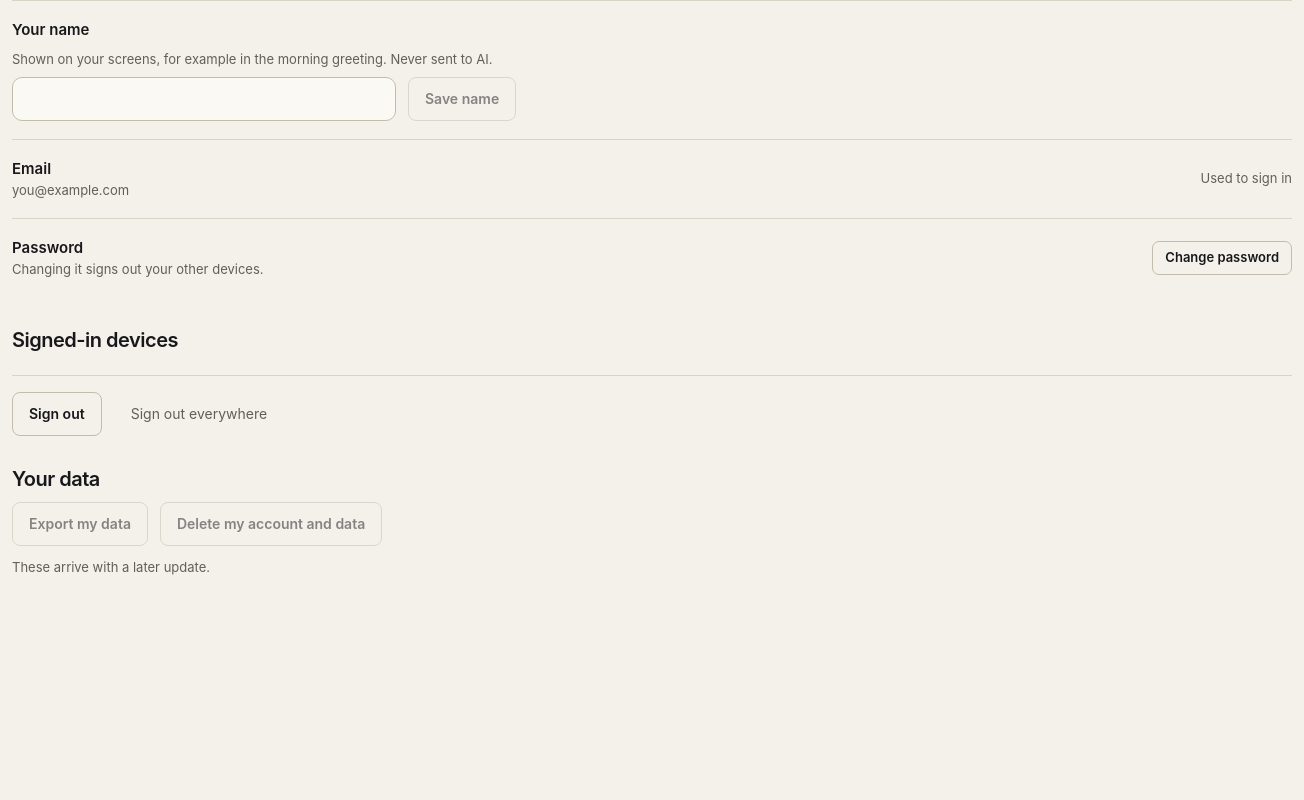
account settings with the API › saves the name with its version, and Undo puts it back
This screenshot has width=1304, height=800.
Type "Asha" into the field labelled "Your name". click: (204, 99)
box: [12,77,396,121]
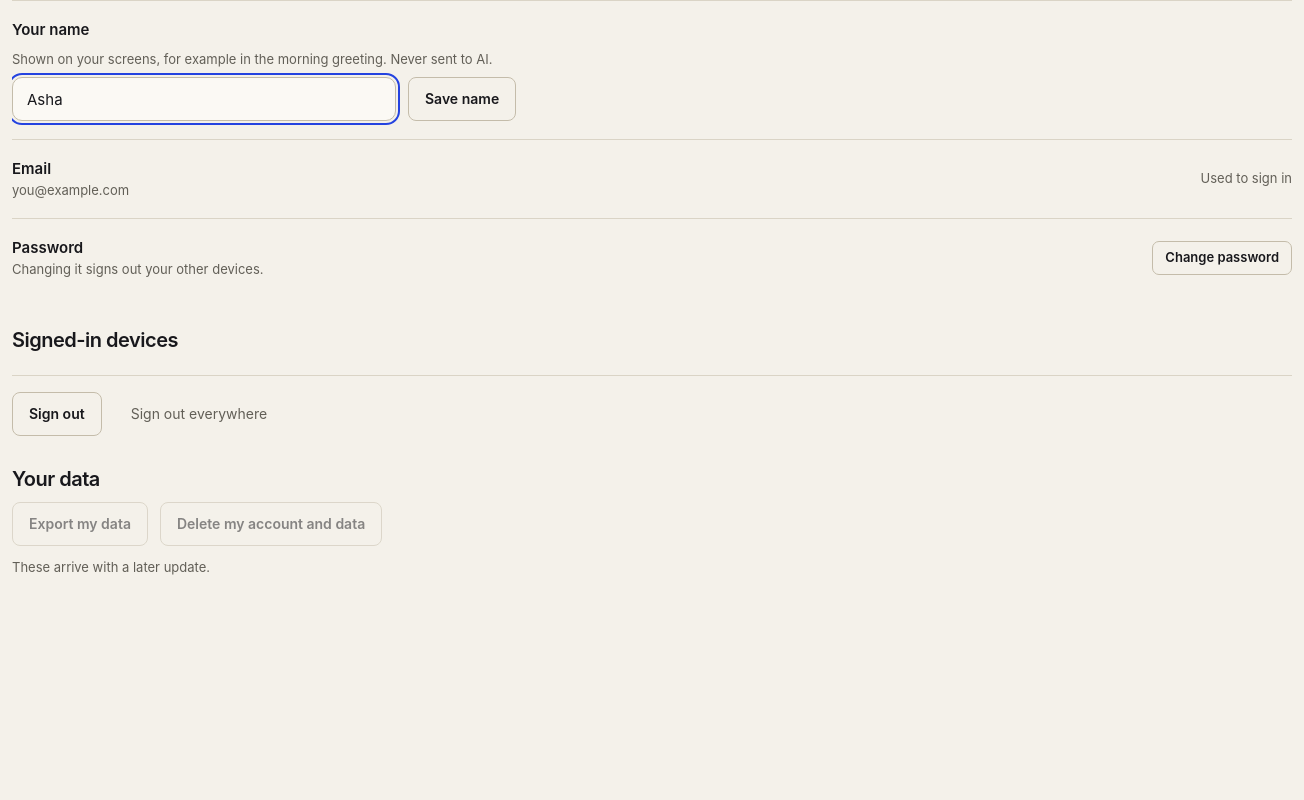
Click the button "Save name". click: (462, 99)
box: [408,77,516,121]
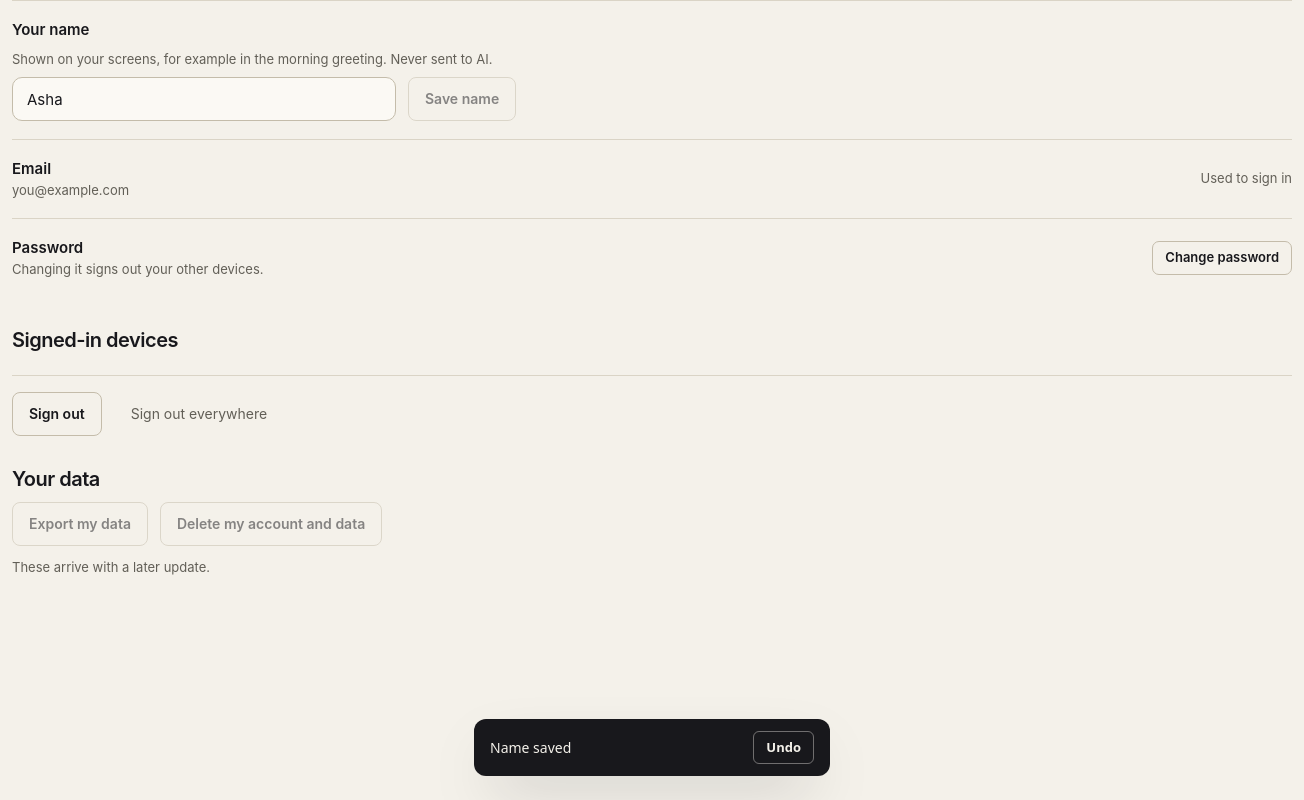
Expected: the text "Name saved" is shown, [490,738,571,758]
Click the button "Undo". click: (784, 748)
box: [753,731,814,764]
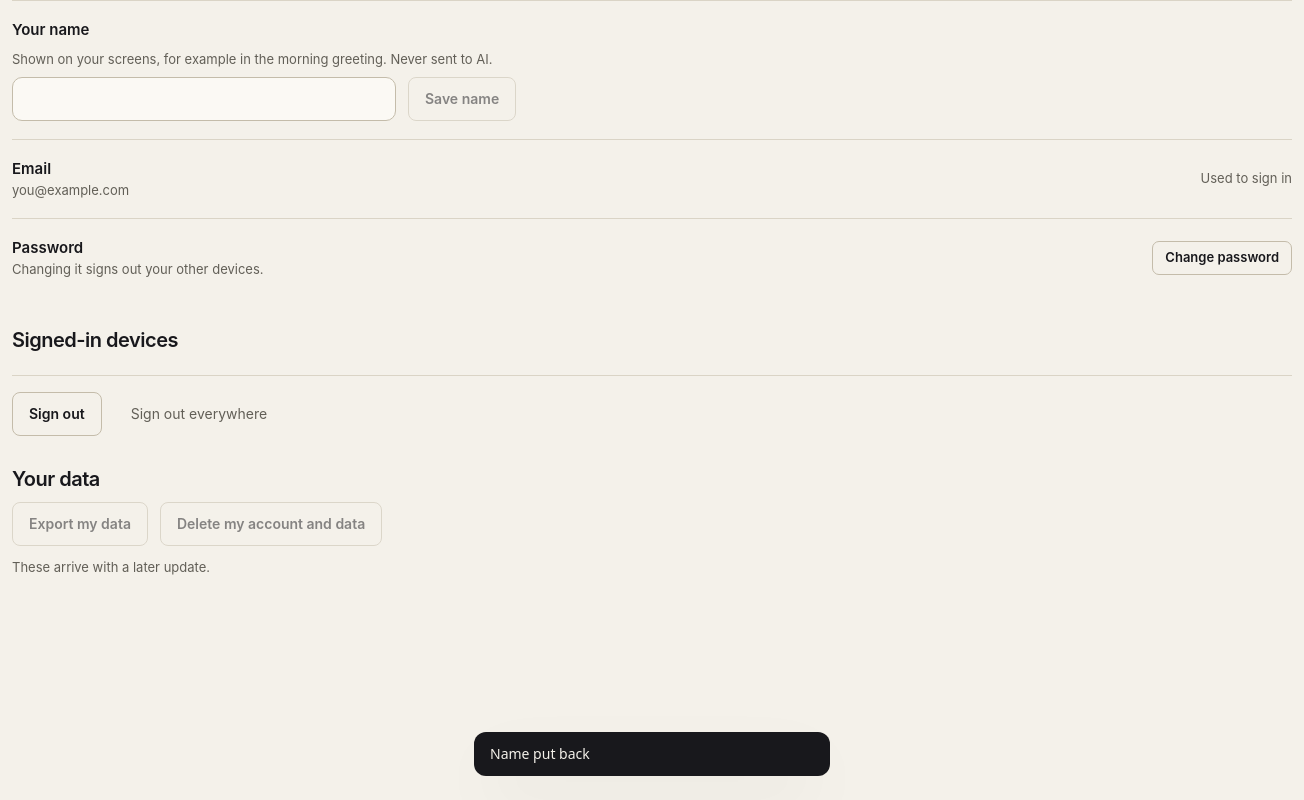
Expected: the text "Name put back" is shown, [490,744,590,764]
Expected: the field labelled "Your name" is empty, [12,77,396,121]
